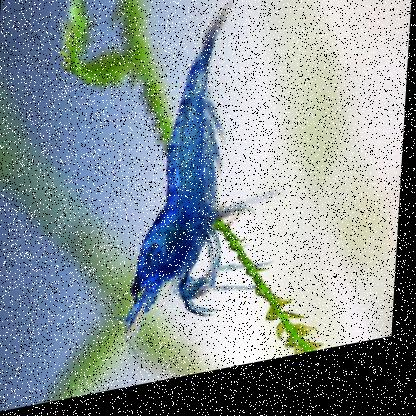shrimp: (128, 0, 289, 348)
